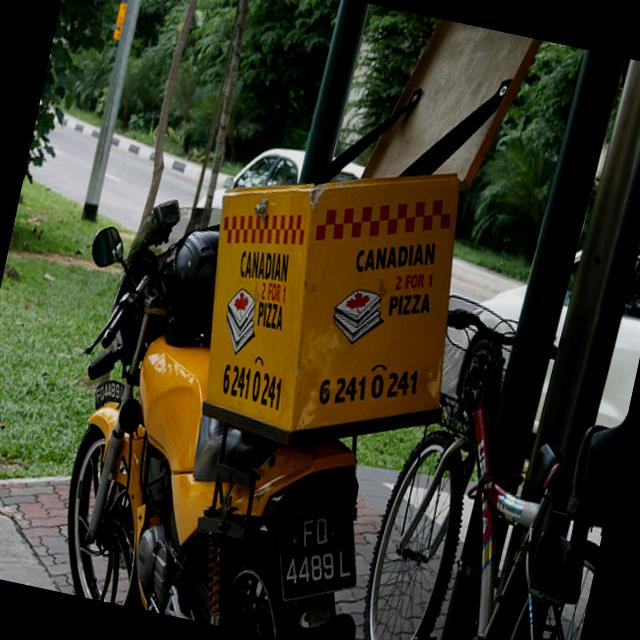Vehicle: (12, 180, 437, 640), (427, 193, 640, 449), (194, 130, 307, 242)
